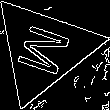M_E: (11, 19, 76, 80)
